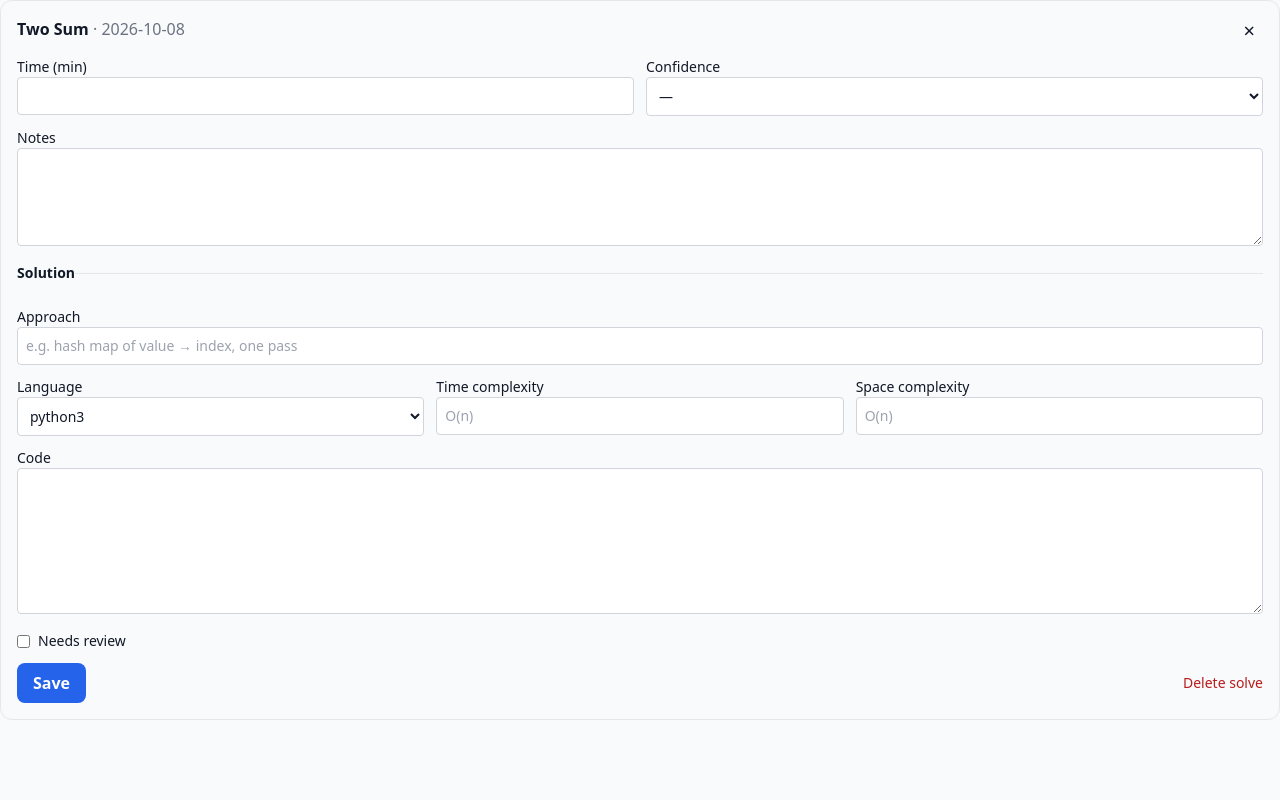
Test case: NoteEditor › shows the error message if saving fails
This screenshot has width=1280, height=800.
Click the button "Save" at x=52, y=683, box [17,663,86,703]
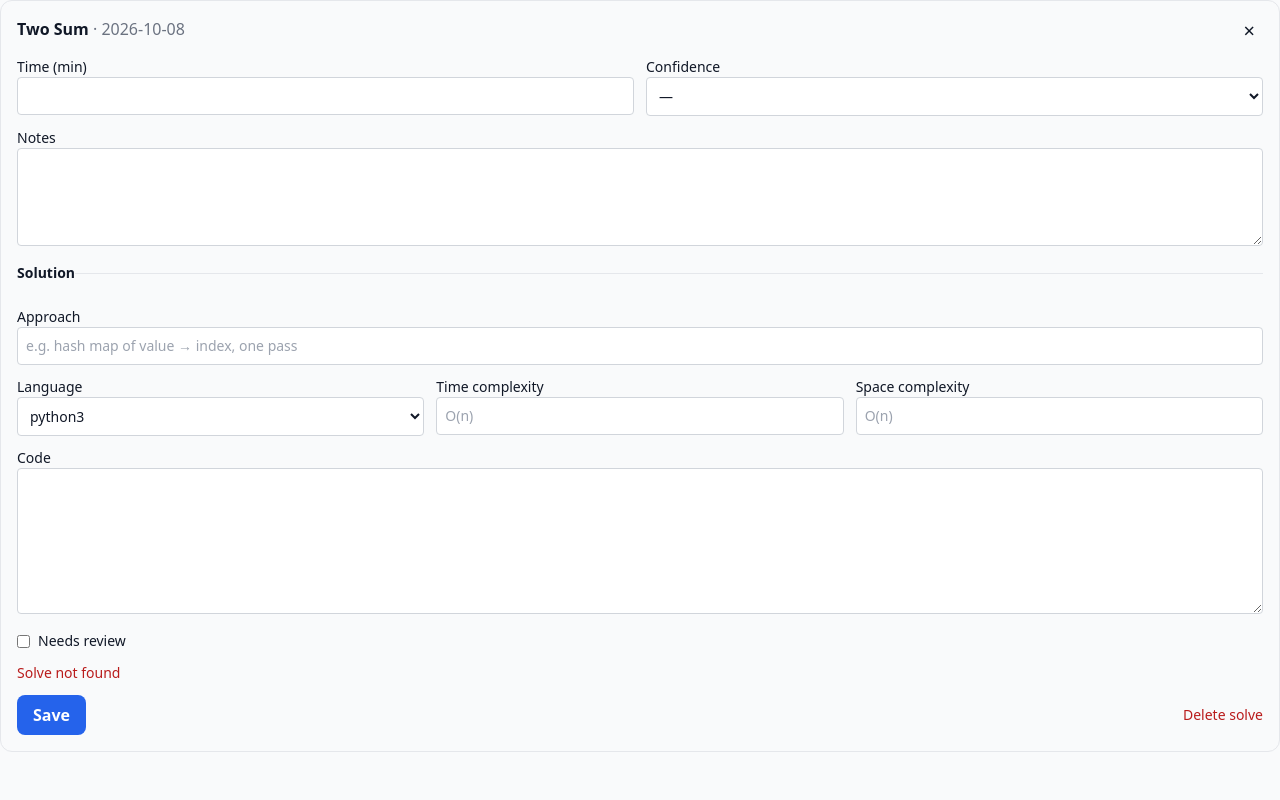
Result: the message reads "Solve not found" at [17,663,120,682]
